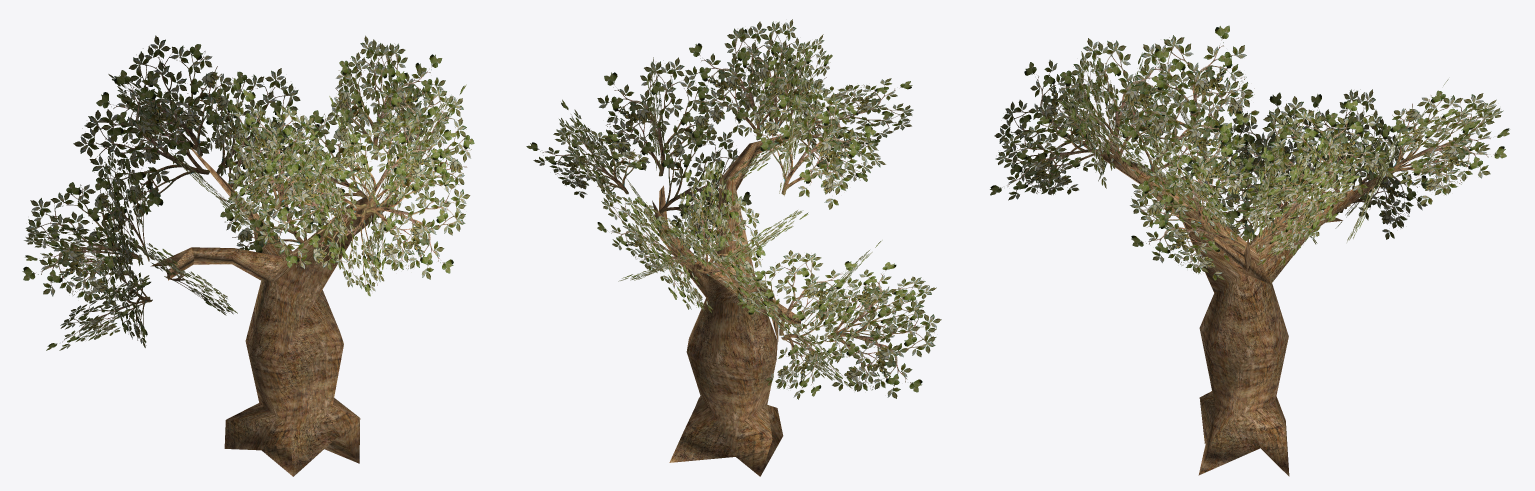
The model's file is decd_blba_tree_a1_l2.fbx.
The picture shows the model from 3 angles, left to right: view 1: azimuth 30°, elevation 25°; view 2: azimuth 150°, elevation 25°; view 3: azimuth 270°, elevation 25°; orthographic projection. The views are drawn at different scales.
Parts seen in each view (by area): view 1: mesh_node; view 2: mesh_node; view 3: mesh_node.
Boxes of the visible parts, x1,y1,x2,y2 form: mesh_node: (22, 35, 474, 476); mesh_node: (526, 19, 941, 476); mesh_node: (990, 25, 1509, 476).
Size of the model in its own units: 12.17 by 11.45 by 13.3.
